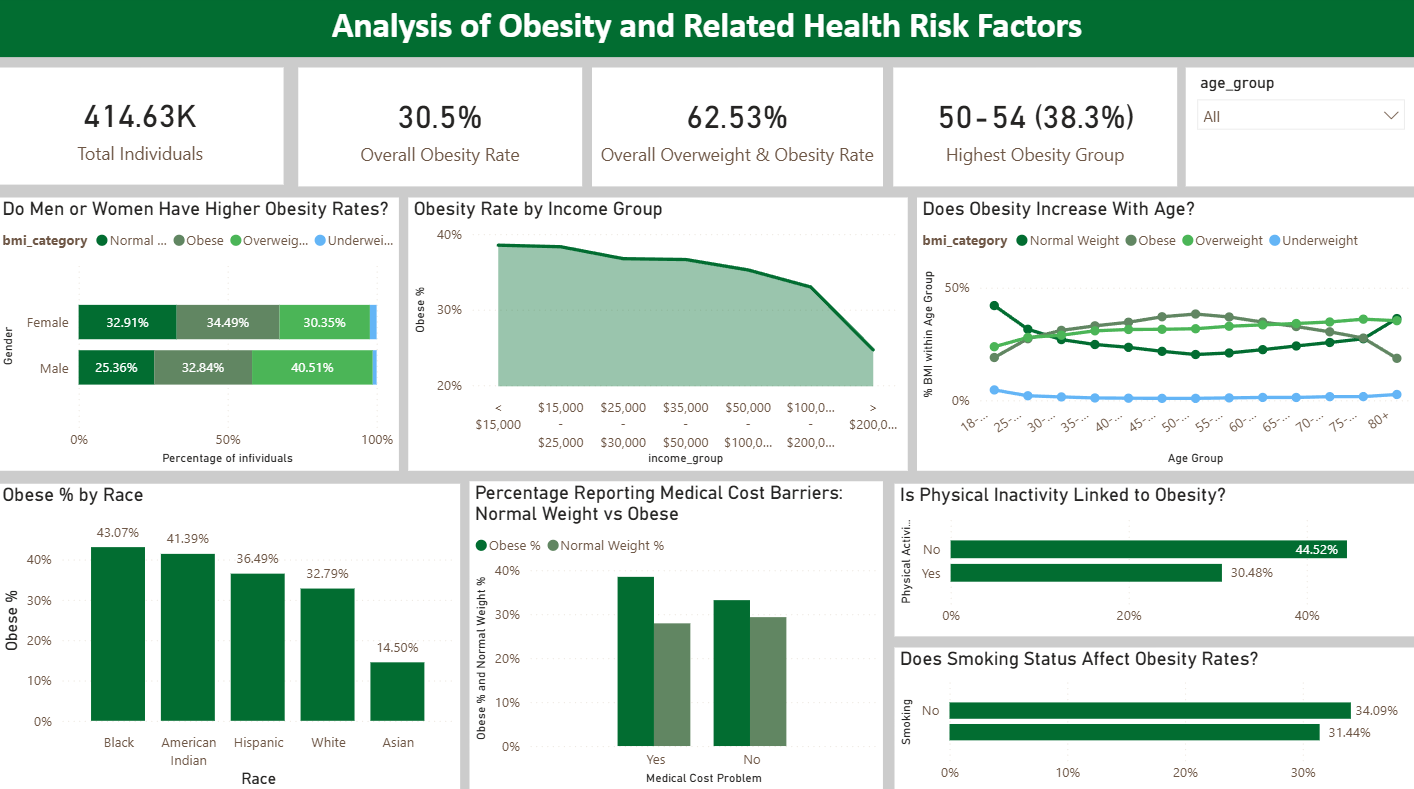

The page's visual inventory and layout, read from the dashboard file:
{"tool":"powerbi","page":{"name":"Obesity Analysis","canvas":[1280,720],"ordinal":0},"visuals":[{"type":"card","fields":{"Values":["CountNonNull(health_data brfss_clean.id)"]},"box":[0,65.7,258.6,105.7],"z":0},{"type":"hundredPercentStackedBarChart","title":"Do Men or Women Have Higher Obesity Rates?","fields":{"Category":["health_data brfss_clean.gender"],"Series":["health_data brfss_clean.bmi_category"],"Y":["CountNonNull(health_data brfss_clean.id)"]},"box":[0,182.5,362.5,246.2],"z":1000},{"type":"slicer","fields":{"Values":["health_data brfss_clean.age_group"]},"box":[1072.3,65.4,207.7,106.9],"z":2000},{"type":"card","fields":{"Values":["health_data brfss_clean.Overall Obesity Rate"]},"box":[271.5,65.4,256.2,106.9],"z":3000},{"type":"card","fields":{"Values":["health_data brfss_clean.Highest Obesity Group Display"]},"box":[807.7,65.4,256.2,106.9],"z":4000},{"type":"clusteredBarChart","title":"Does Smoking Status Affect Obesity Rates?","fields":{"Category":["health_data brfss_clean.smoking"],"Y":["health_data brfss_clean.Obese % by Smoking"]},"box":[808.8,588.8,471.2,131.2],"z":5000},{"type":"lineChart","title":"Does Obesity Increase With Age?","fields":{"Category":["health_data brfss_clean.age_group"],"Series":["health_data brfss_clean.bmi_category"],"Y":["health_data brfss_clean.% by BMI Category"]},"box":[830,182.5,450,246.2],"z":6000},{"type":"clusteredBarChart","title":"Is Physical Inactivity Linked to Obesity?","fields":{"Category":["health_data brfss_clean.exercise"],"Y":["health_data brfss_clean.Obese % by Physical Activity"]},"box":[808.8,441.2,471.2,137.5],"z":7000},{"type":"textbox","title":"Analysis of Obesity and Related Health Risk Factors","box":[0,0,1280,55.7],"z":8000},{"type":"areaChart","title":"Obesity Rate by Income Group","fields":{"Category":["health_data brfss_clean.income_group"],"Y":["health_data brfss_clean.Obese % by Asthma"]},"box":[371.2,182.5,450,246.2],"z":9000},{"type":"card","fields":{"Values":["health_data brfss_clean.Overall Overweight & Obesity Rate"]},"box":[536.2,65.4,262.3,106.9],"z":10000},{"type":"clusteredColumnChart","title":"Percentage Reporting Medical Cost Barriers: Normal Weight vs Obese","fields":{"Y":["health_data brfss_clean.Obese % by Depression","health_data brfss_clean.Normal Weight % by Asthma"],"Category":["health_data brfss_clean.medical_cost_problem"]},"box":[426.2,438.8,372.5,278.8],"z":11000},{"type":"clusteredColumnChart","fields":{"Category":["health_data brfss_clean.race"],"Y":["health_data brfss_clean.Obese % by Depression"]},"box":[0,441.2,417.5,278.8],"z":12000}]}

Visuals, with their boxes in screenshot pixels (x1, y1, x2, y2), scaled from the page's 1280x720 canvas onto the 1414x789 screenshot:
card - CountNonNull(health_data brfss_clean.id): box(0, 72, 286, 188)
"Do Men or Women Have Higher Obesity Rates?" hundredPercentStackedBarChart: box(0, 200, 400, 470)
slicer - health_data brfss_clean.age_group: box(1185, 72, 1413, 189)
card - health_data brfss_clean.Overall Obesity Rate: box(300, 72, 583, 189)
card - health_data brfss_clean.Highest Obesity Group Display: box(892, 72, 1175, 189)
"Does Smoking Status Affect Obesity Rates?" clusteredBarChart: box(893, 645, 1413, 788)
"Does Obesity Increase With Age?" lineChart: box(917, 200, 1413, 470)
"Is Physical Inactivity Linked to Obesity?" clusteredBarChart: box(893, 483, 1413, 634)
"Analysis of Obesity and Related Health Risk Factors" textbox: box(0, 0, 1413, 61)
"Obesity Rate by Income Group" areaChart: box(410, 200, 907, 470)
card - health_data brfss_clean.Overall Overweight & Obesity Rate: box(592, 72, 882, 189)
"Percentage Reporting Medical Cost Barriers: Normal Weight vs Obese" clusteredColumnChart: box(471, 481, 882, 786)
clusteredColumnChart - health_data brfss_clean.race x health_data brfss_clean.Obese % by Depression: box(0, 483, 461, 788)
